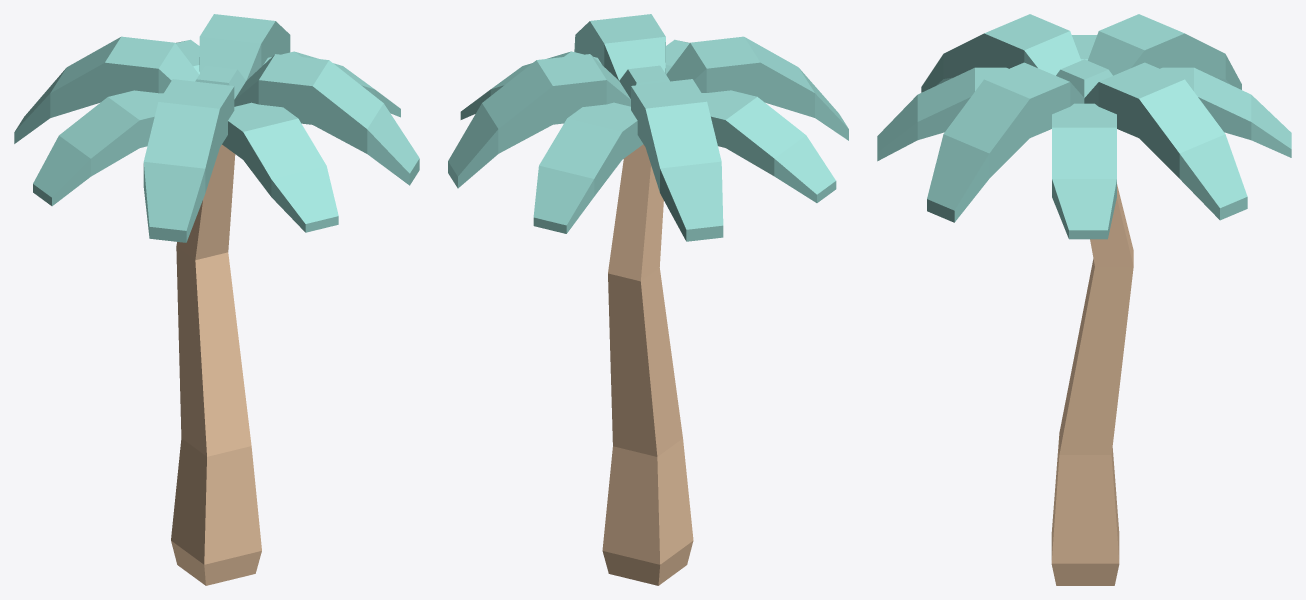
Rendered from palmDetailed_large.glb.
3 views of the same model, side by side, from view 1: azimuth 30°, elevation 25°; view 2: azimuth 150°, elevation 25°; view 3: azimuth 270°, elevation 25° (orthographic).
Parts seen in each view (by area): view 1: Group 152, Group 150; view 2: Group 152, Group 150; view 3: Group 152, Group 150.
Part boxes in pixels (box(x1,y1,x2,y2)): Group 152: box(14, 14, 419, 242); Group 150: box(171, 144, 261, 585); Group 152: box(448, 14, 848, 241); Group 150: box(602, 144, 693, 585); Group 152: box(877, 14, 1291, 239); Group 150: box(1051, 184, 1133, 585).
Bounding box in the file's own units: 0.7719 × 1.06 × 0.7719.
